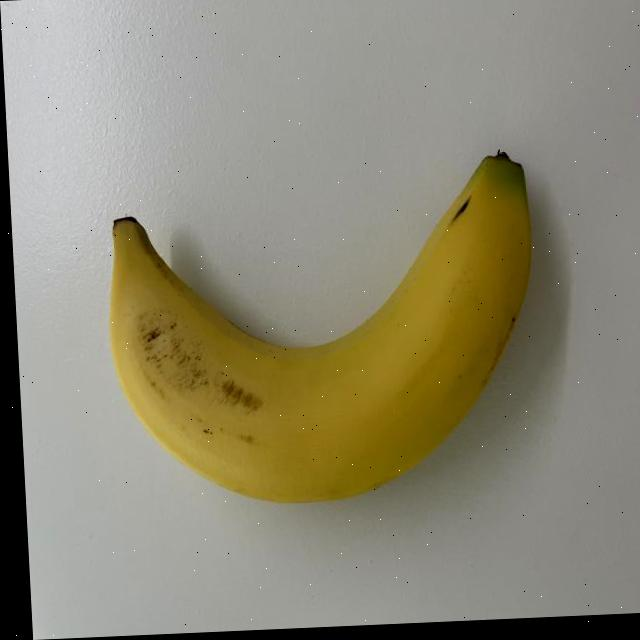banana: (94, 140, 555, 513)
